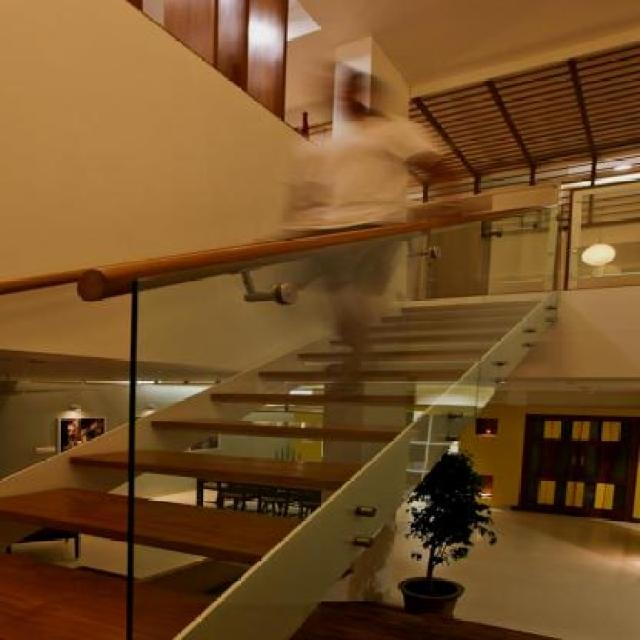stair: (0, 187, 638, 638)
